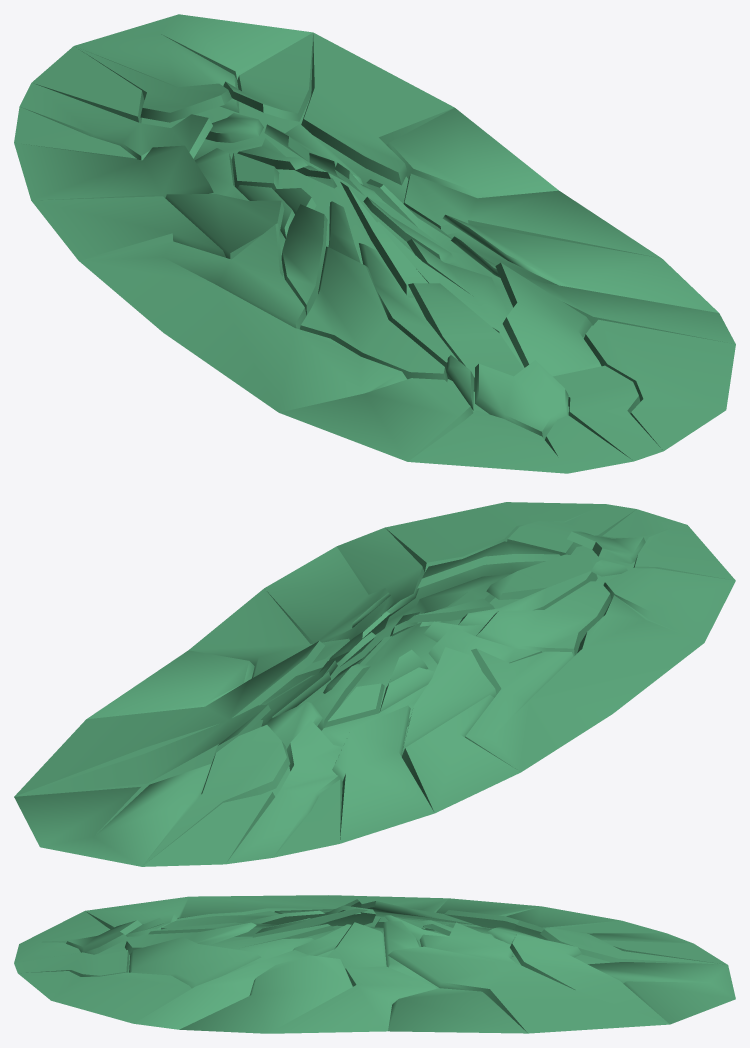
The model's file is etc_dargonship_weapon_eff_double_eff2.glb.
The picture shows the model from 3 angles, top to bottom: view 1: azimuth 30°, elevation 25°; view 2: azimuth 150°, elevation 25°; view 3: azimuth 270°, elevation 25°; orthographic projection. The views are drawn at different scales.
Bounding box in the file's own units: 0.9004 × 0.3037 × 1.98.
